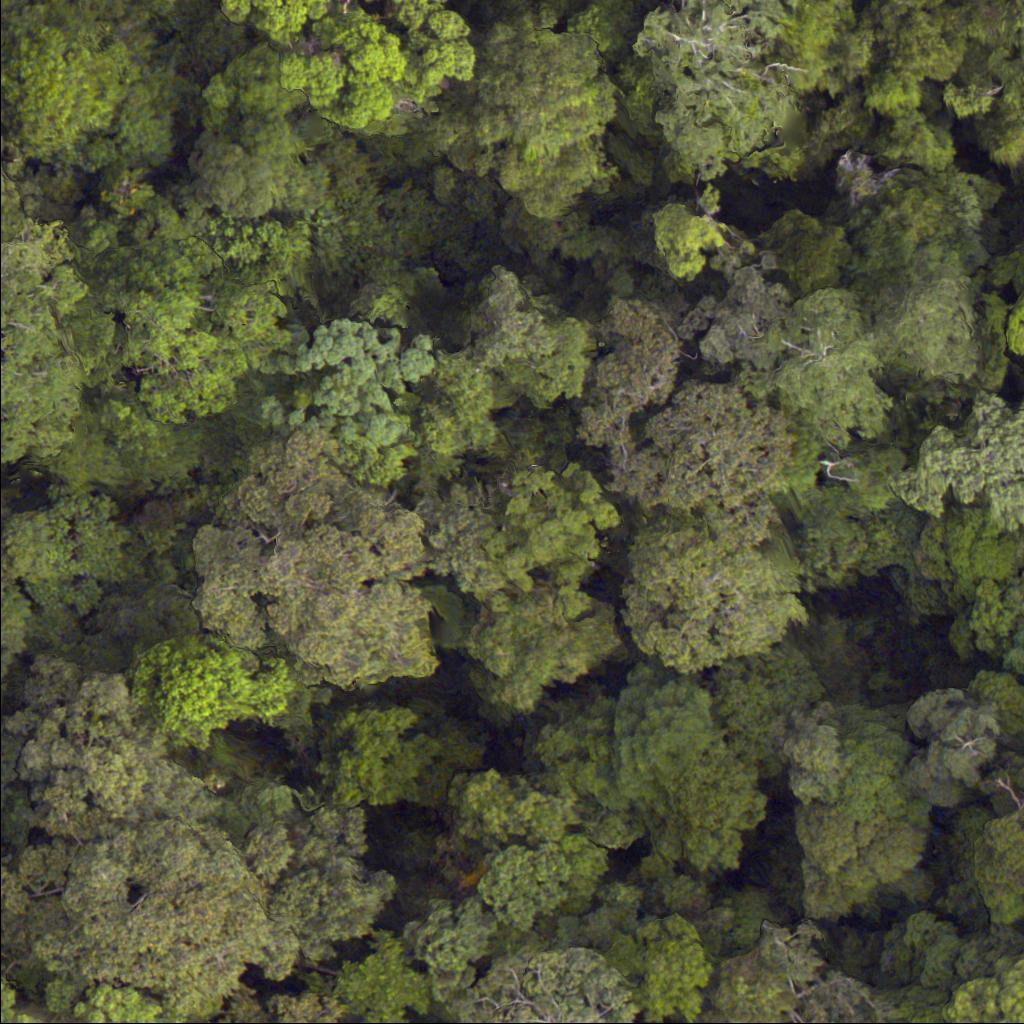crown: (36, 818, 299, 1021), (0, 243, 99, 471), (12, 987, 181, 1023)
